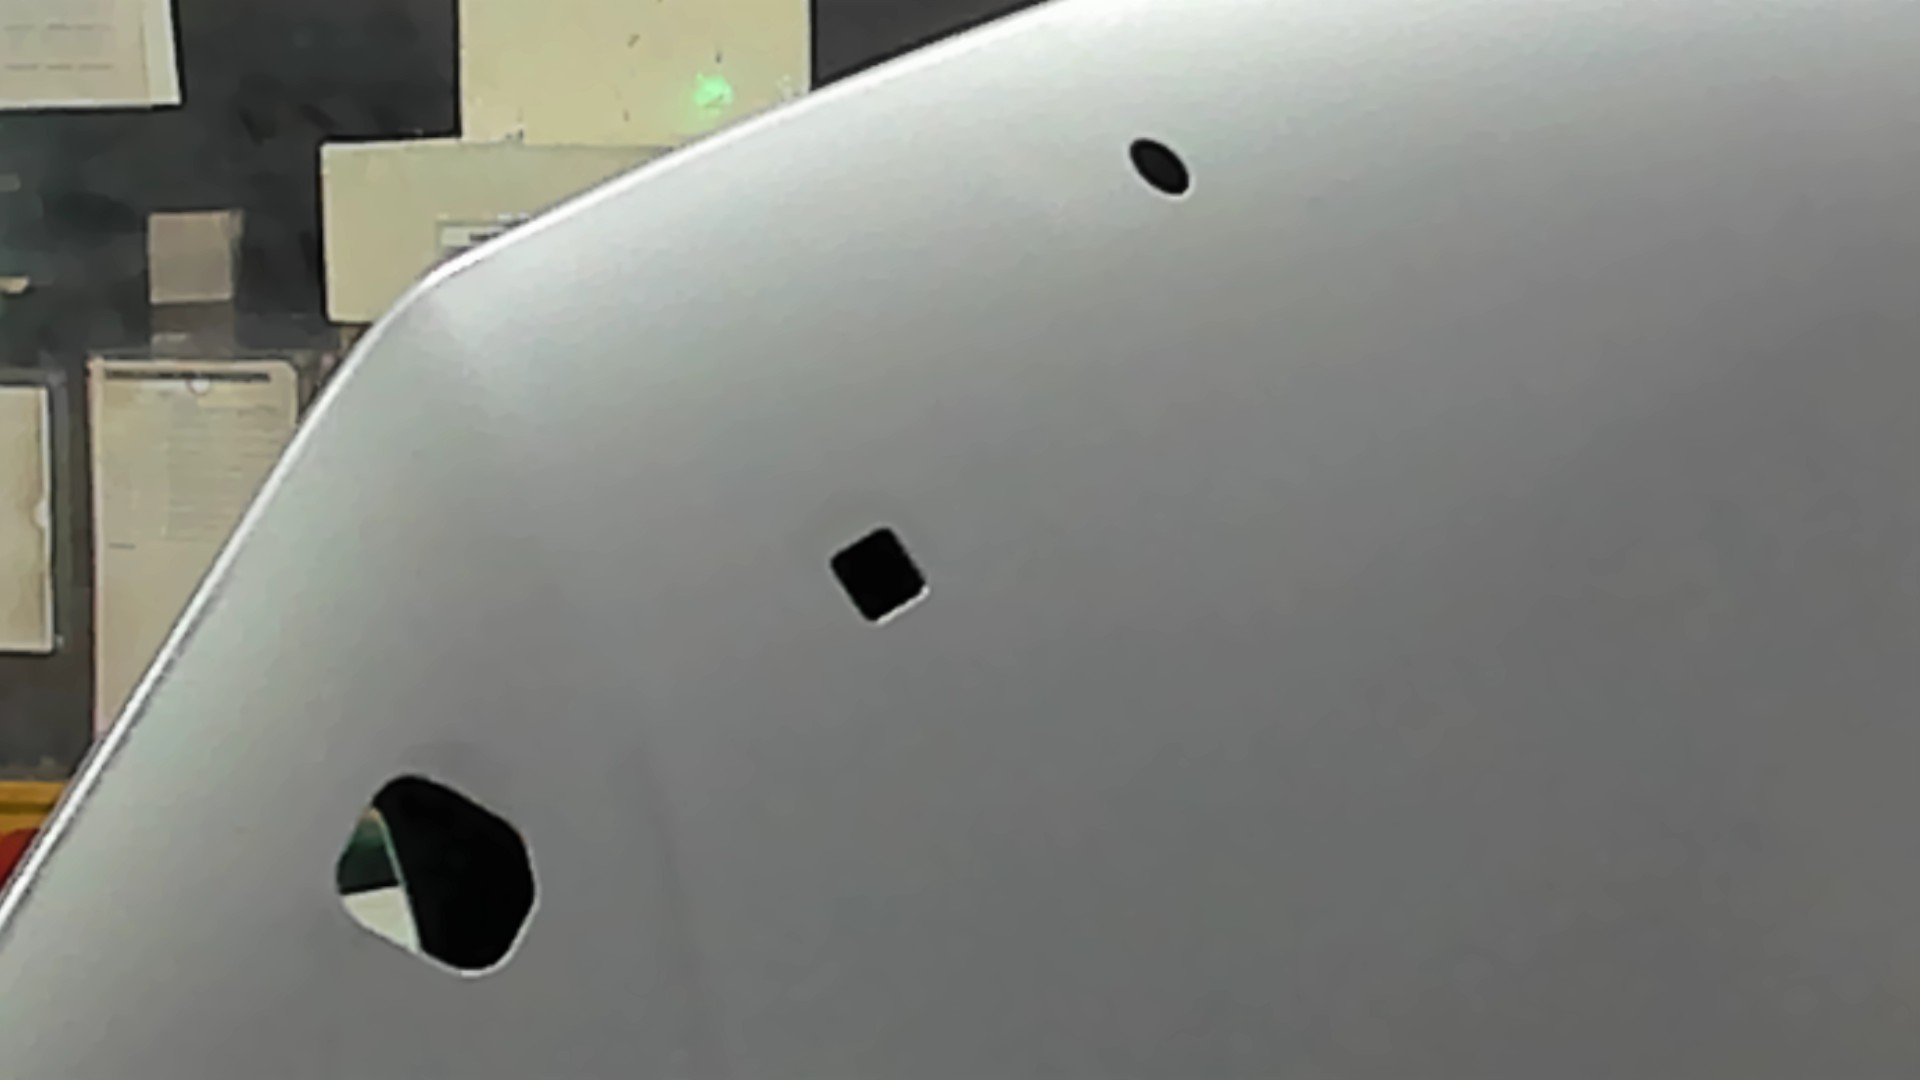chico: (1118, 124, 1201, 215)
grande: (306, 754, 560, 997)
mediano: (822, 514, 938, 642)
